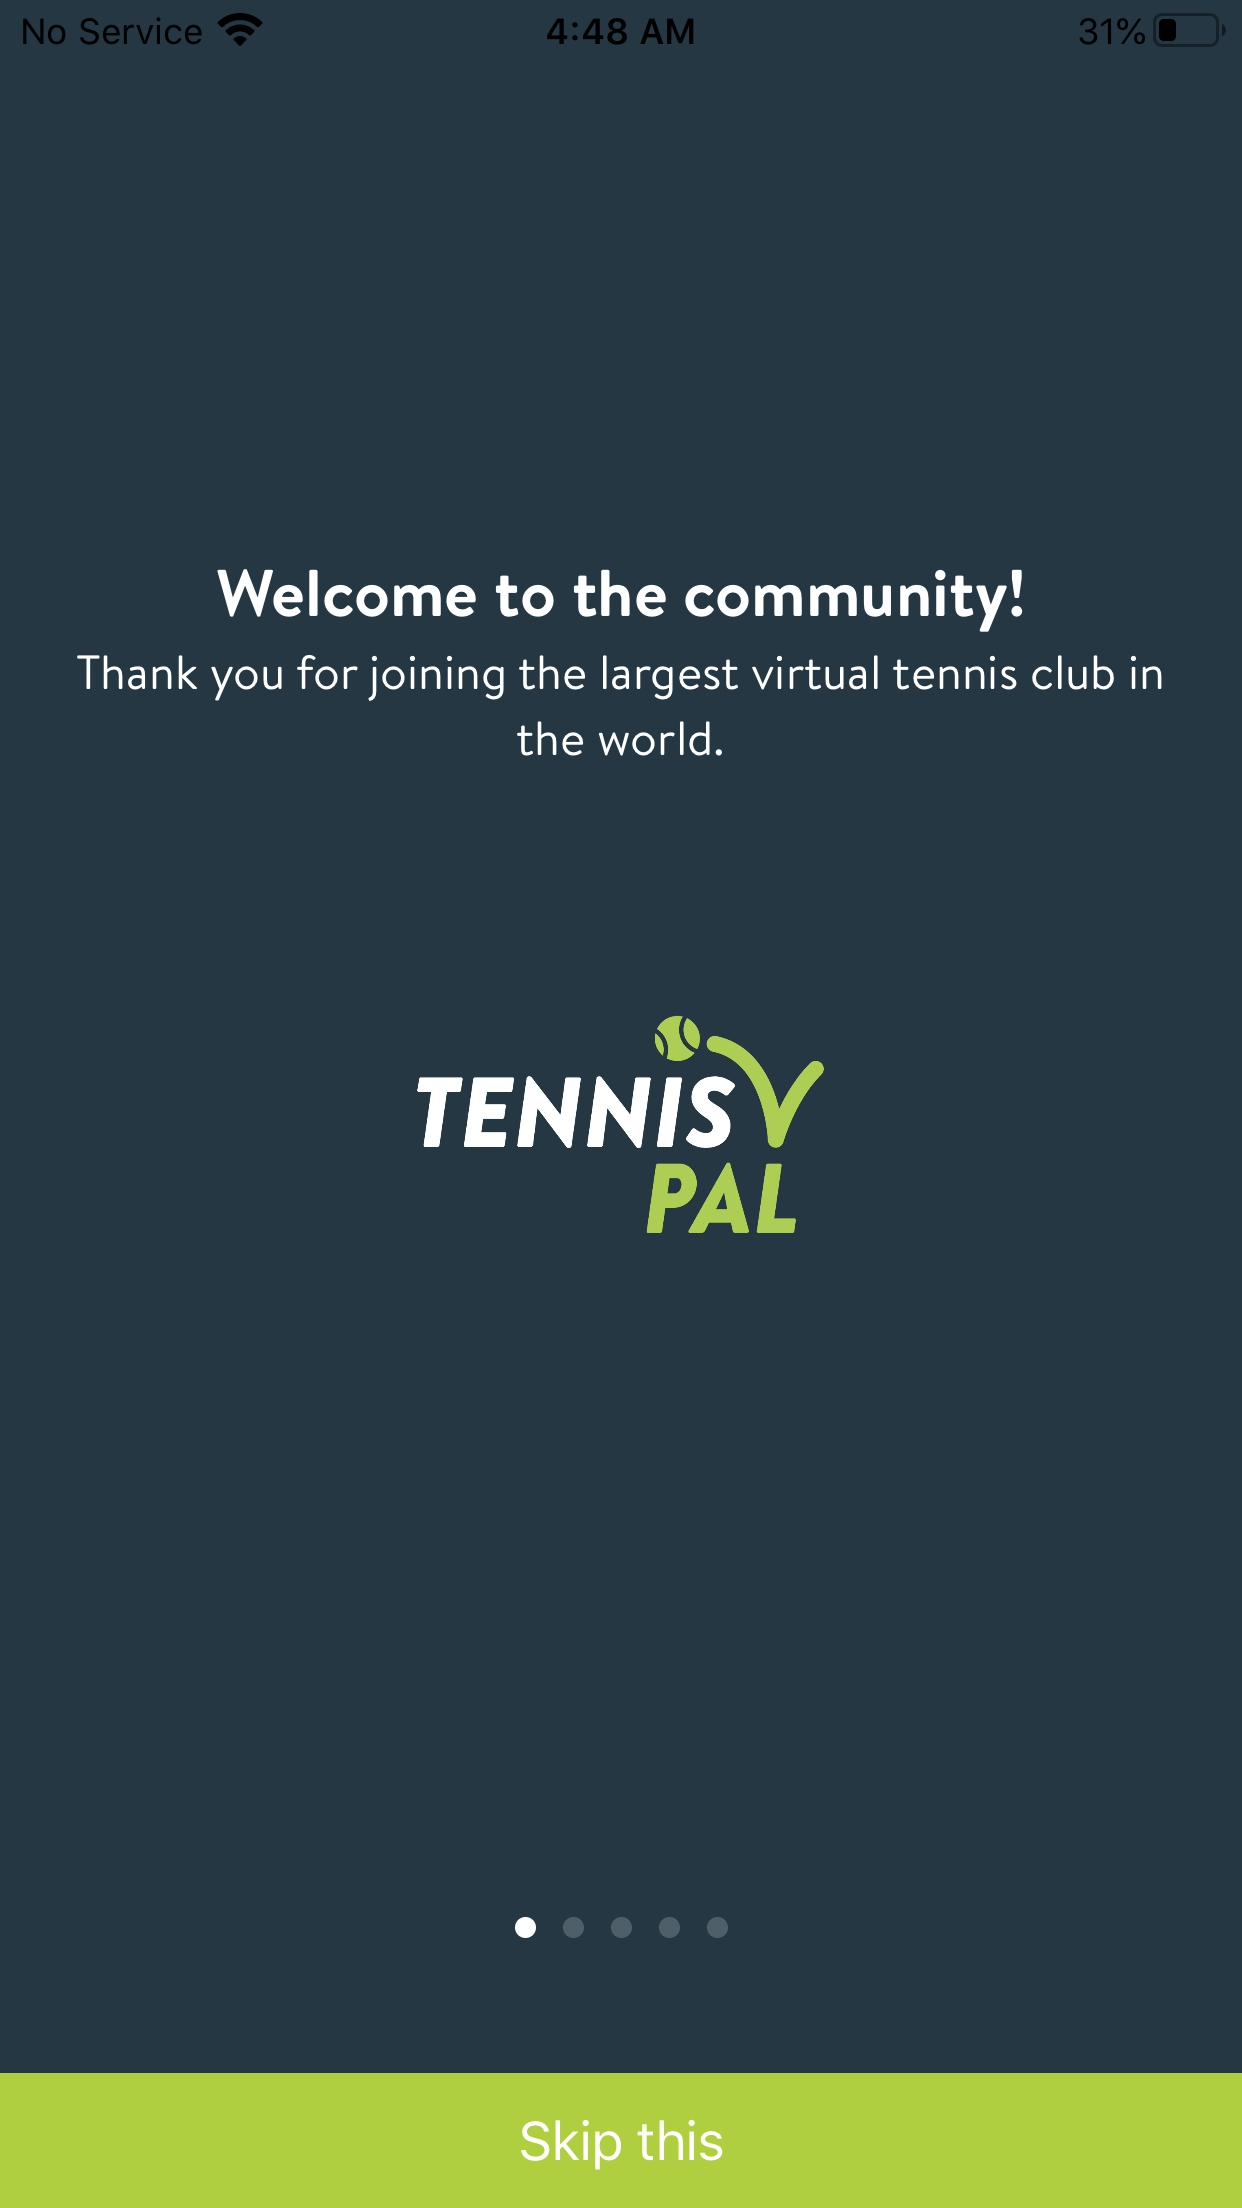Image: (416, 1018, 823, 1234)
PageIndicator: (516, 1917, 729, 1940)
Text: (77, 655, 1162, 757), (218, 570, 1024, 632)
TextButton: (2, 2073, 1242, 2208)
UpperTaskBar: (2, 2, 1242, 47)
